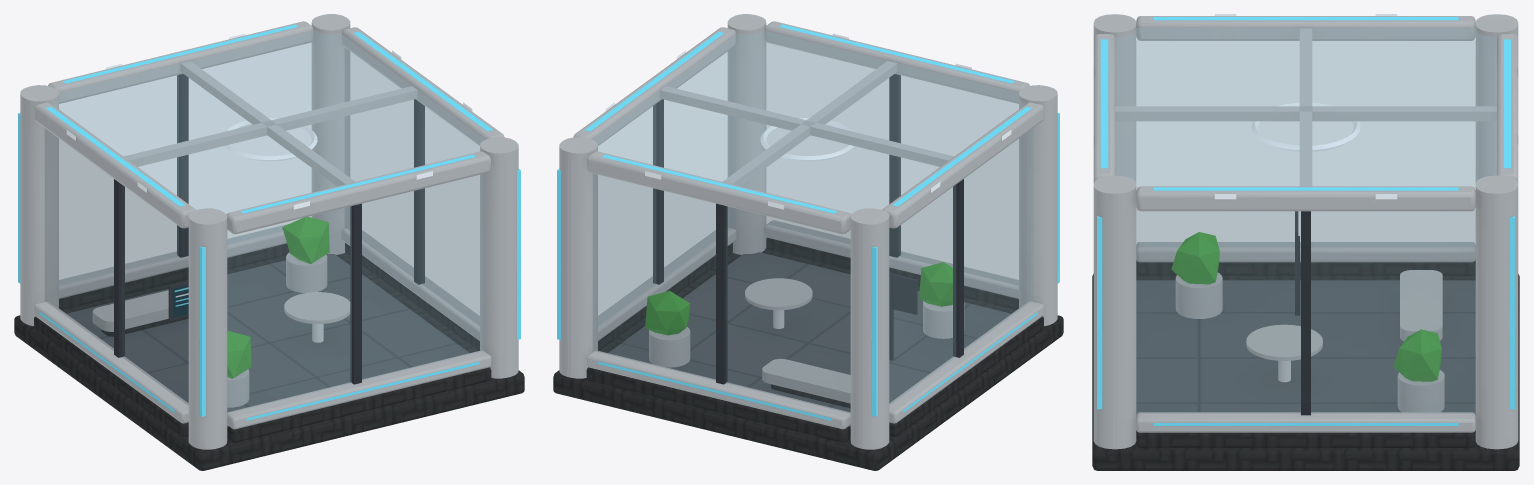
File: hull_enterprise_hull_glass_closed.glb
3 views of the same model, side by side, from view 1: azimuth 30°, elevation 25°; view 2: azimuth 150°, elevation 25°; view 3: azimuth 270°, elevation 25° (orthographic). The views are drawn at different scales.
Visible parts, largest first — view 1: te_hull_enterprise_hull_glass_closed; view 2: te_hull_enterprise_hull_glass_closed; view 3: te_hull_enterprise_hull_glass_closed.
Part boxes in pixels (bbox=[...]): te_hull_enterprise_hull_glass_closed: bbox=[14, 14, 524, 470]; te_hull_enterprise_hull_glass_closed: bbox=[553, 14, 1063, 470]; te_hull_enterprise_hull_glass_closed: bbox=[1092, 14, 1519, 470].
Size of the model in its own units: 1 by 0.7206 by 1.
Materials: 2 (1 with a texture image).
